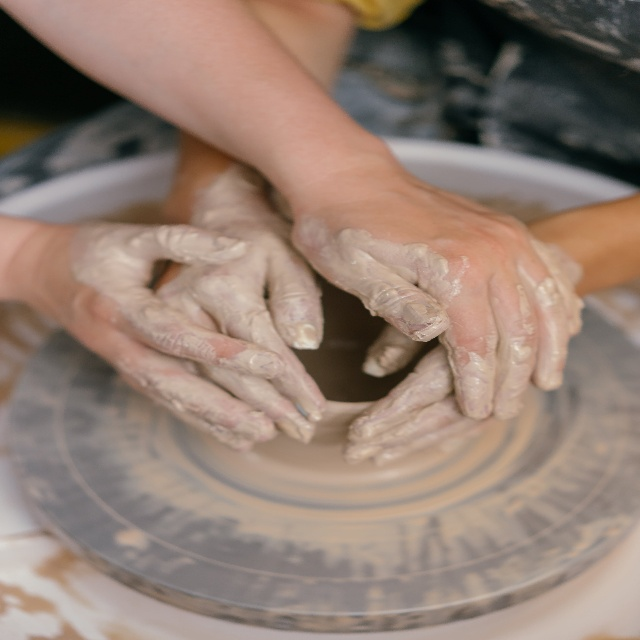Sin_guantes: (290, 172, 583, 424), (44, 218, 325, 447), (343, 326, 458, 480)
